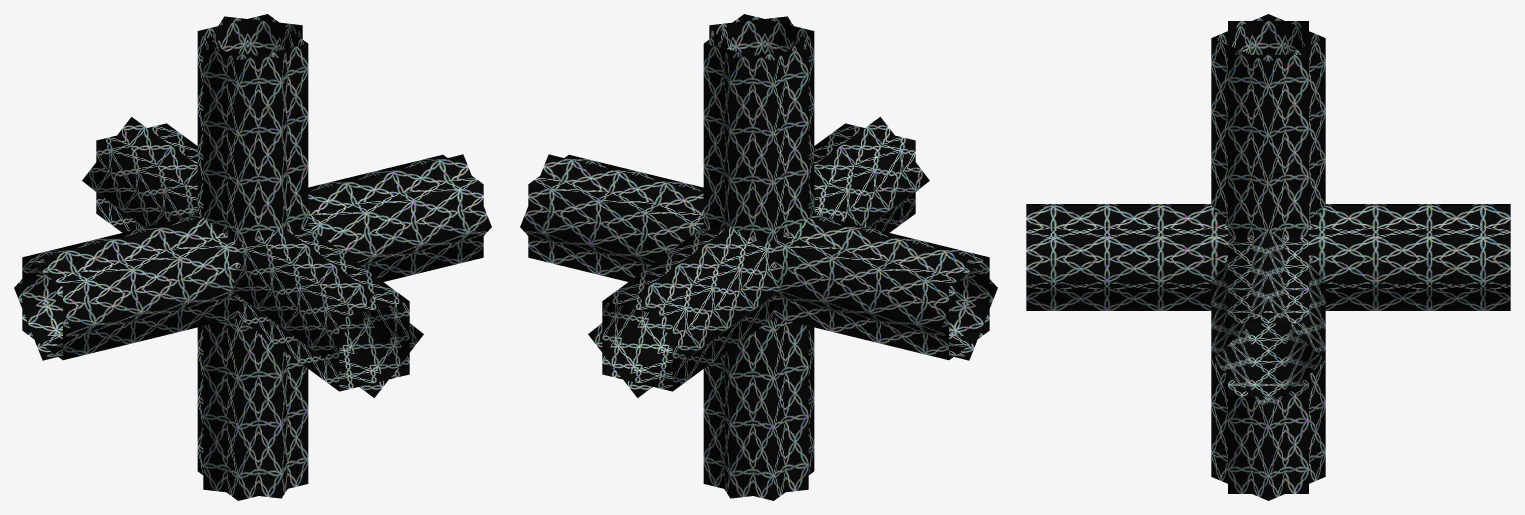
The model's file is StarTetrahemihexacron13.gltf.
The picture shows the model from 3 angles, left to right: view 1: azimuth 30°, elevation 25°; view 2: azimuth 150°, elevation 25°; view 3: azimuth 270°, elevation 25°; orthographic projection.
Visible parts, largest first — view 1: StarTetrahemihexacron; view 2: StarTetrahemihexacron; view 3: StarTetrahemihexacron.
Part boxes in pixels (x1,y1,x2,y2): StarTetrahemihexacron: [14, 14, 491, 500]; StarTetrahemihexacron: [520, 14, 997, 500]; StarTetrahemihexacron: [1026, 14, 1510, 500].
Bounding box in the file's own units: 6 × 6 × 6.
Materials: 1 (1 with a texture image).
